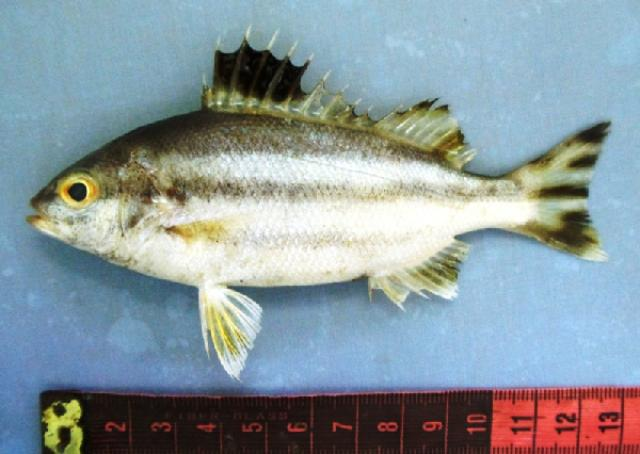Mulut: (18, 181, 64, 249)
Sirip Anal: (369, 237, 473, 311)
Sirip Dada: (162, 202, 242, 256)
Sirip Ekor: (516, 109, 618, 271)
Sirip Perut: (199, 278, 267, 386)
Sirip Punggung: (201, 21, 479, 179)
